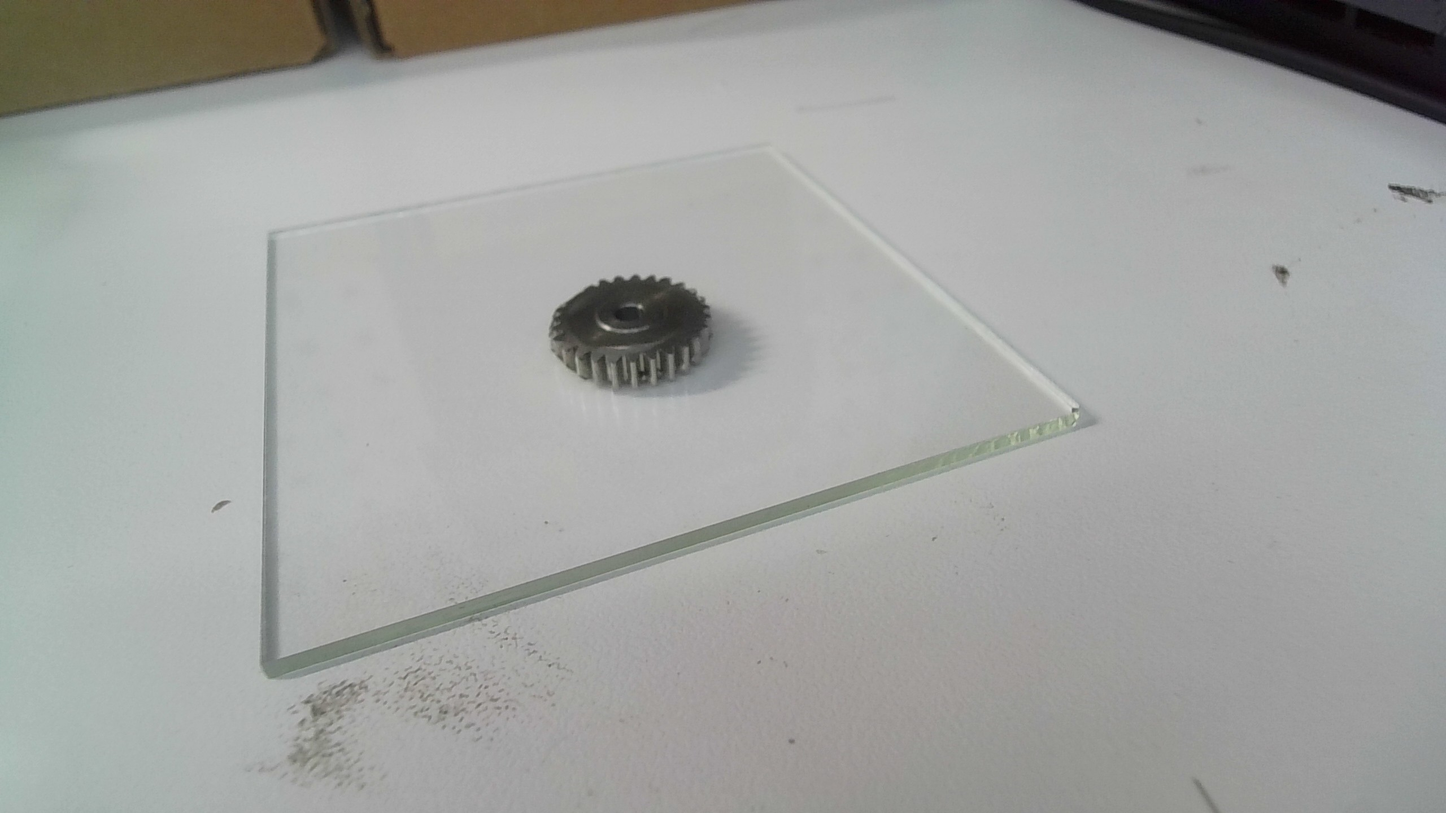gear: (545, 272, 718, 393)
